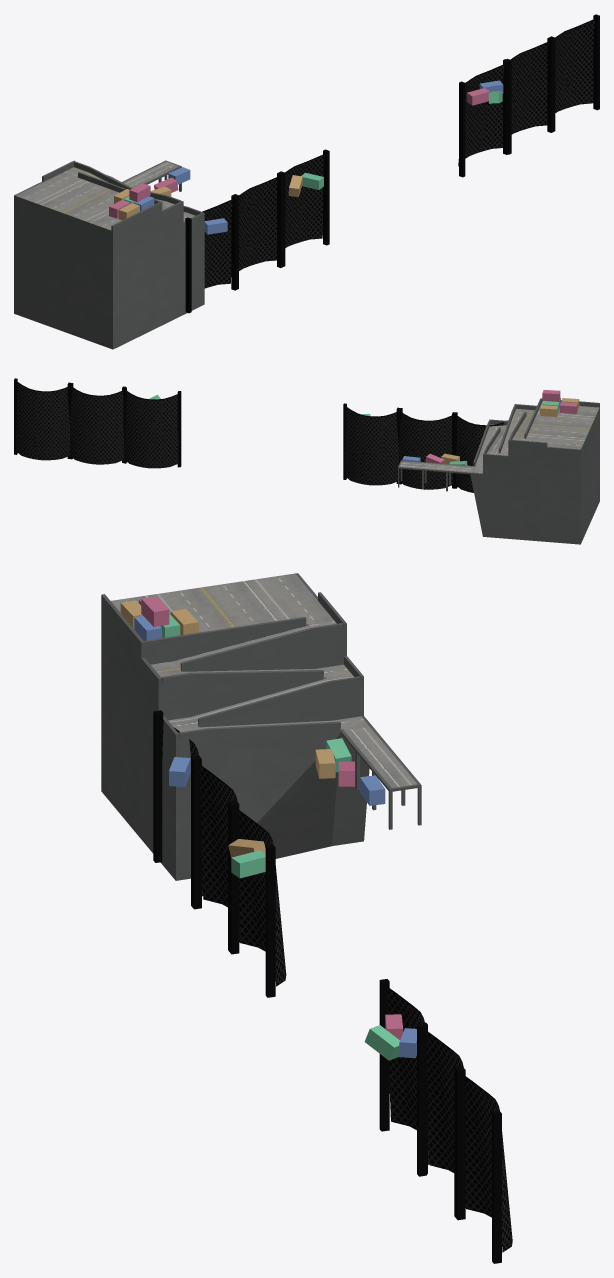
The model's file is NewSozaContainers.fbx.
3 views of the same model, one above another, from view 1: azimuth 30°, elevation 25°; view 2: azimuth 150°, elevation 25°; view 3: azimuth 270°, elevation 25° (orthographic). The views are drawn at different scales.
Visible parts, largest first — view 1: Cube; view 2: Cube; view 3: Cube.
Boxes of the visible parts, x1,y1,x2,y2 form: Cube: (14, 14, 599, 349); Cube: (14, 378, 599, 544); Cube: (101, 573, 512, 1263).
Bounding box in the file's own units: 483 × 98.76 × 166.
